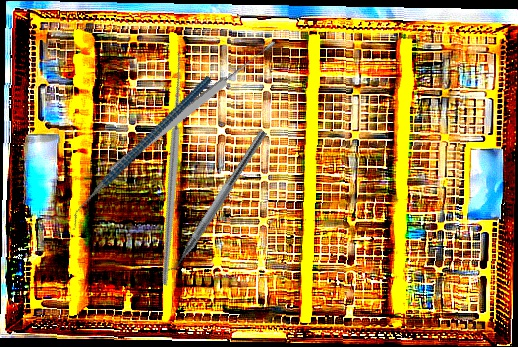Chopper: (37, 75, 245, 232), (156, 123, 268, 283)
Hook Surgical: (54, 44, 281, 288)
Surgical Spoon: (107, 38, 279, 176)
